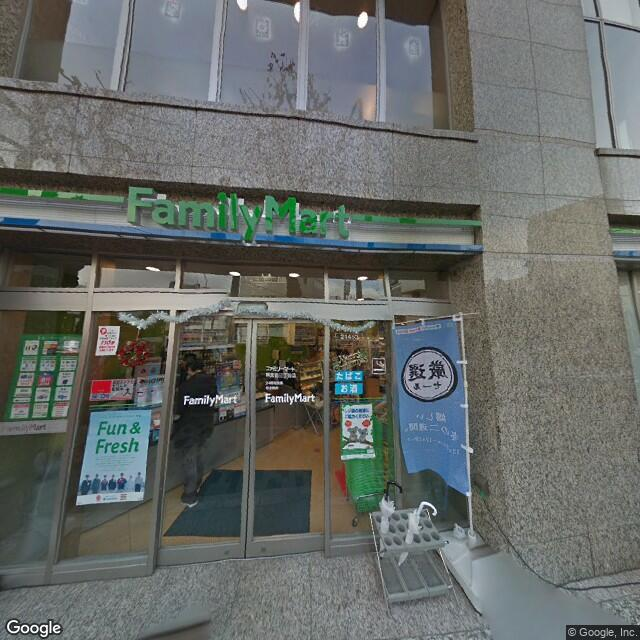family_mart: (1, 174, 479, 267), (120, 181, 357, 247), (180, 390, 239, 410), (260, 390, 318, 405)
